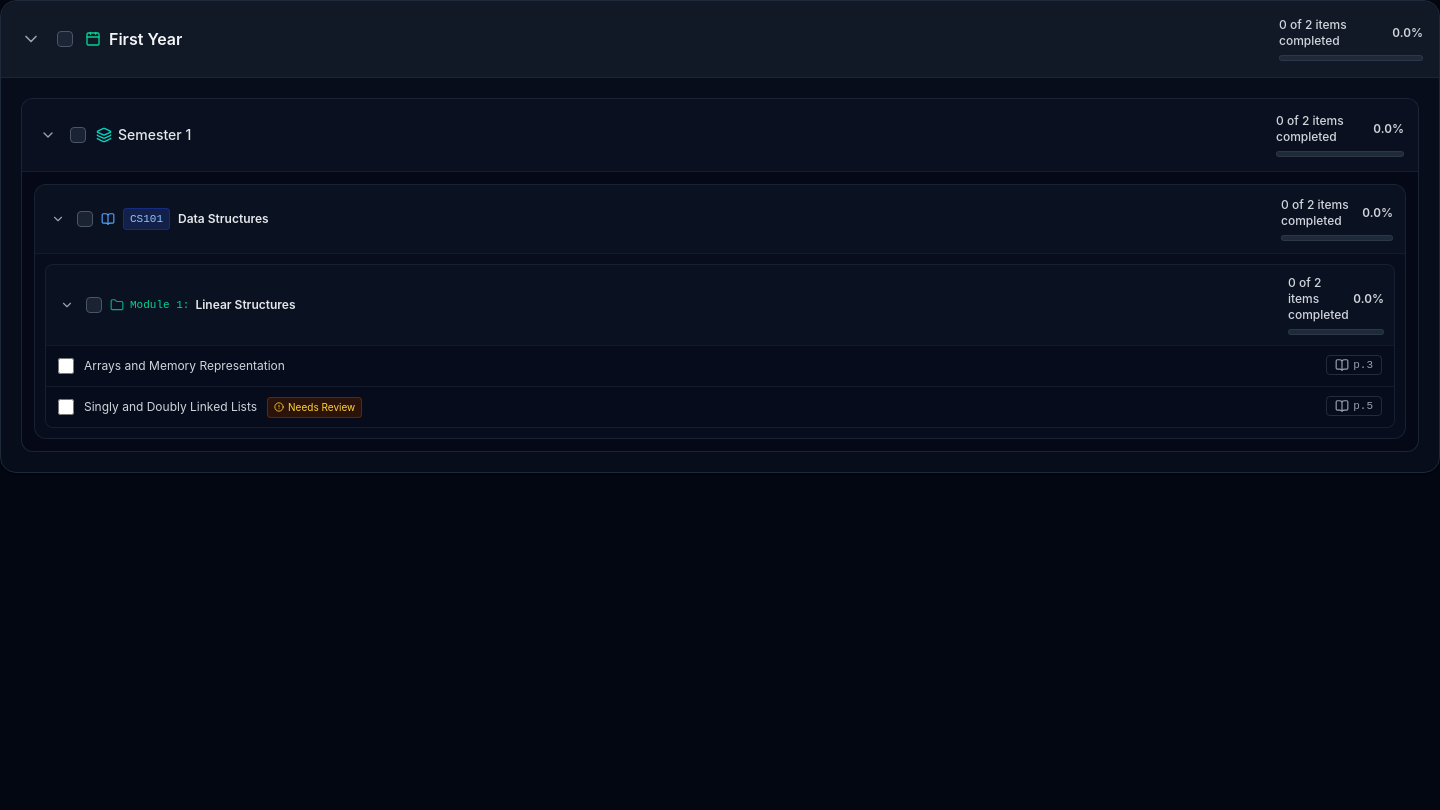
Scenario: SyllabusTree › opens and dismisses source evidence dialog displaying verbatim snippet and page
// Open evidence modal
Click the button named "Inspect source evidence for Arrays and Memory Representation" at (1354, 365), box 1326,355 -> 1382,375
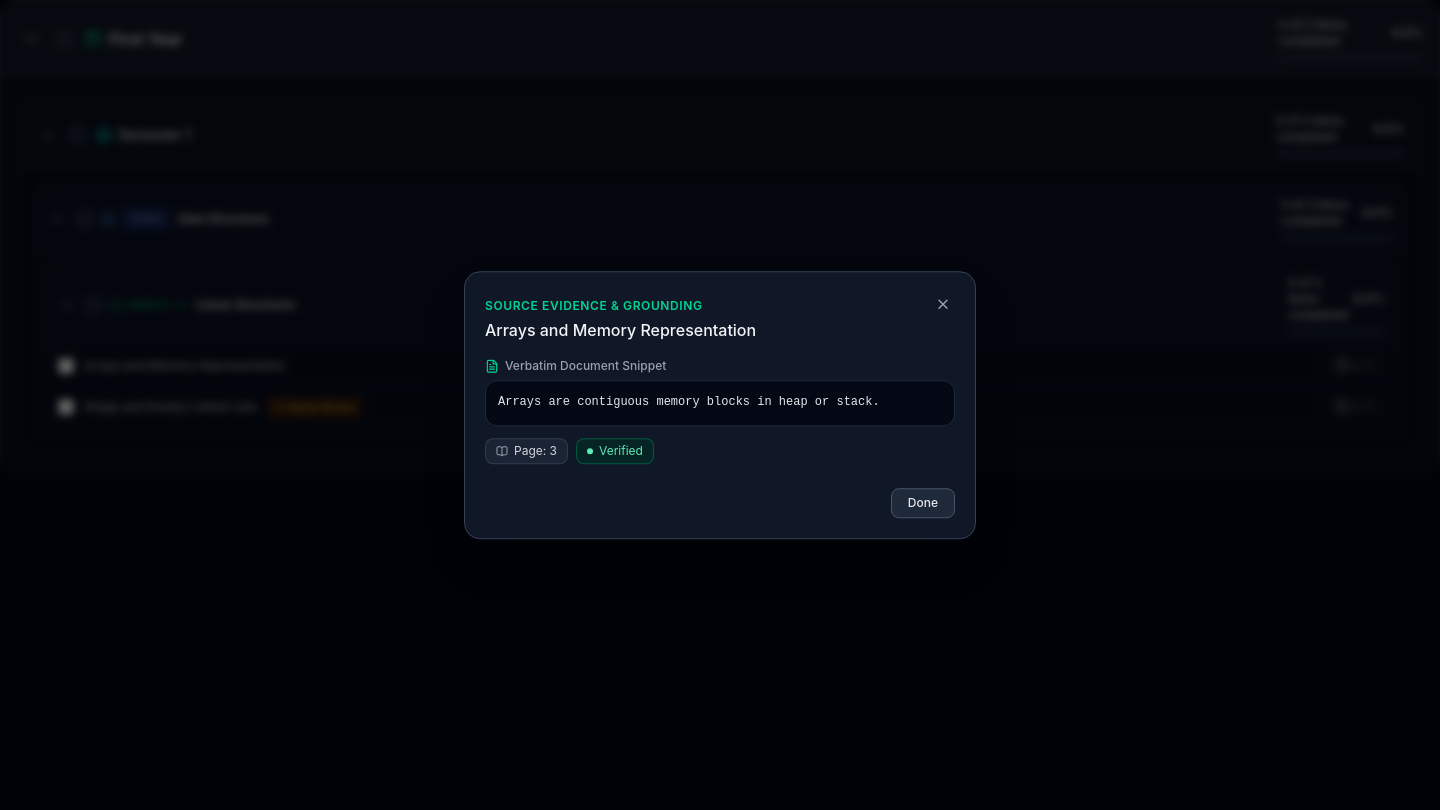
Check: the text "Source Evidence & Grounding" is shown, box 485,298 -> 703,313
Check: the text "Arrays are contiguous memory blocks in heap or stack." is shown, box 485,380 -> 955,426
Check: the text "Page: 3" is shown, box 514,443 -> 557,459
// Close modal
Click the button named "Close modal" at (943, 304), box 931,292 -> 955,316
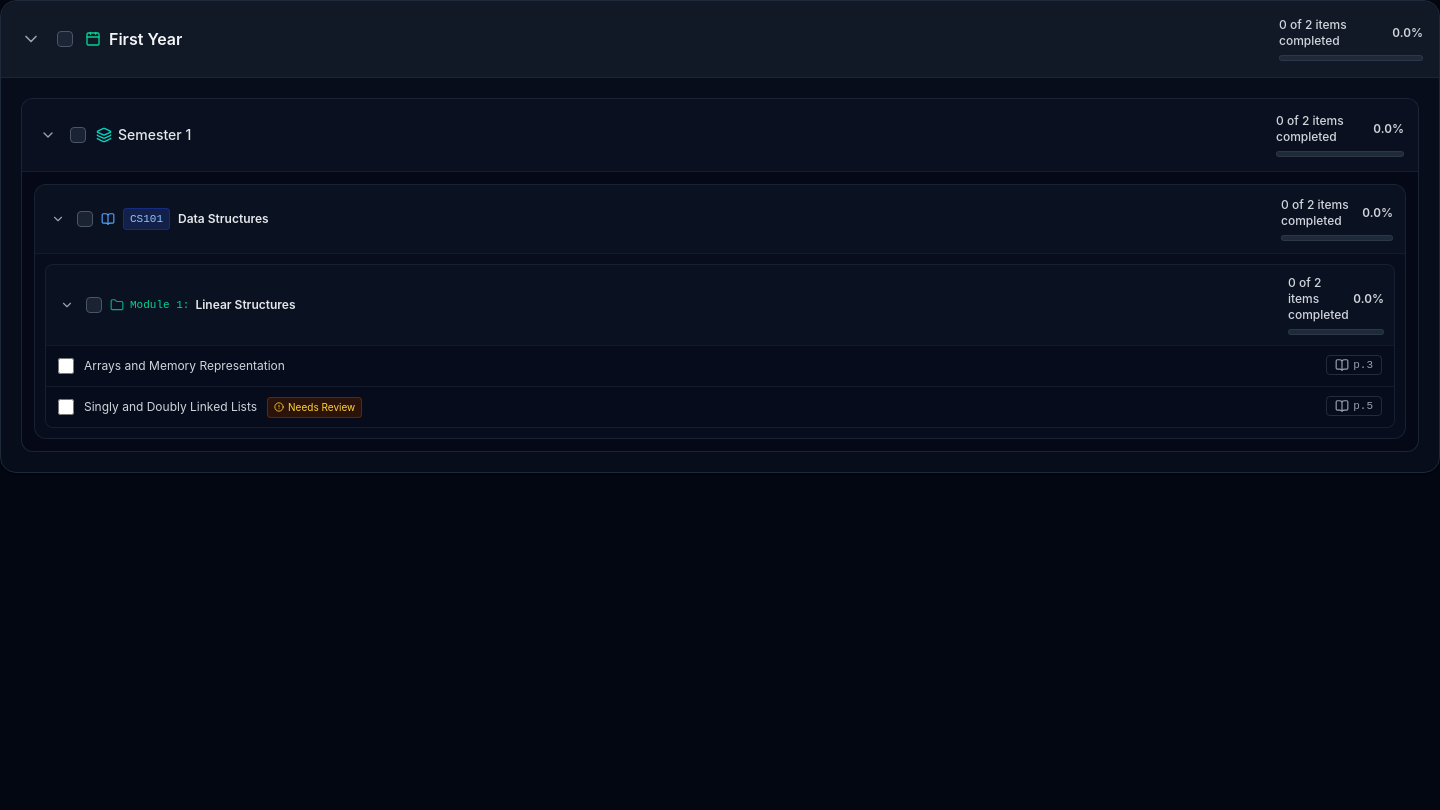
Check: the text "Source Evidence & Grounding" is gone
